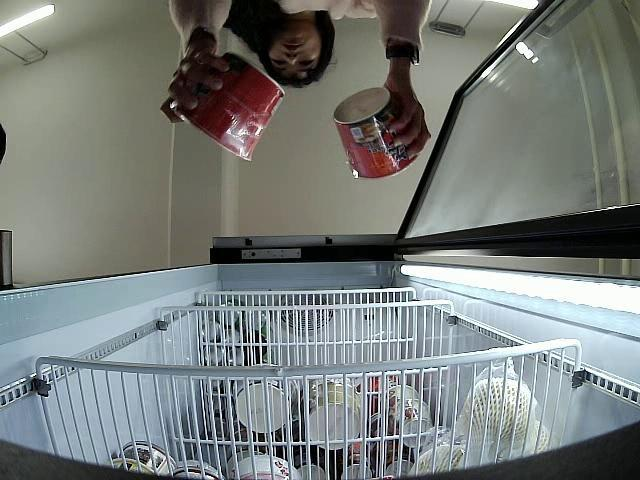01_ShinRamen_L: (188, 55, 284, 162), (332, 88, 422, 182)
